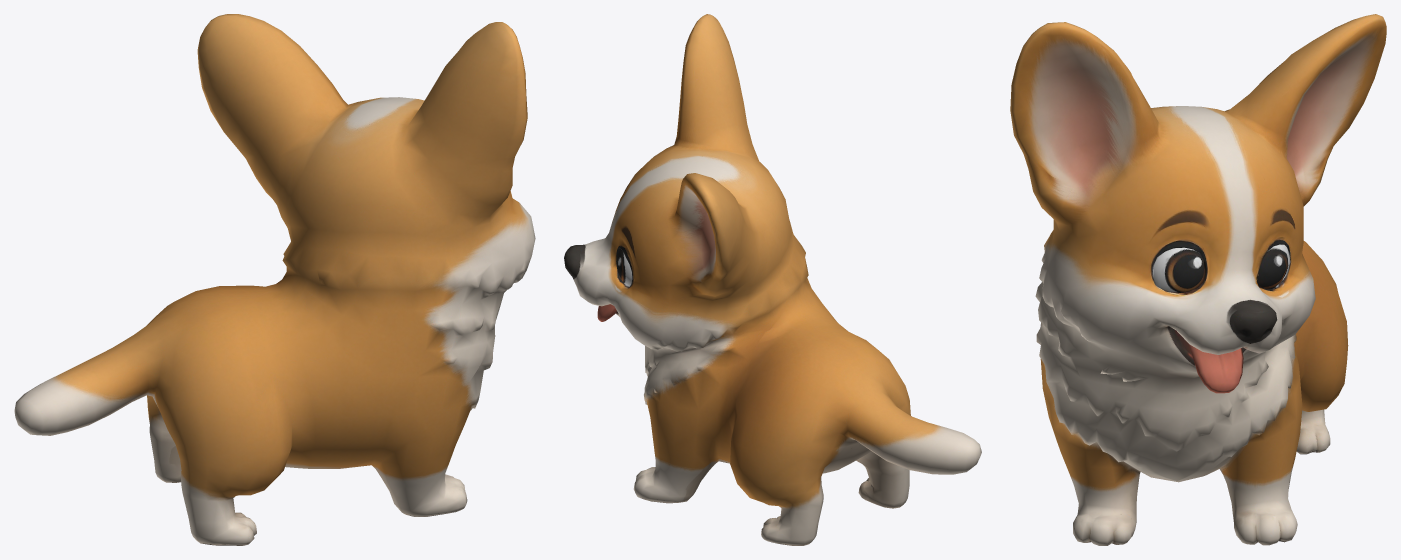
The model's file is corgi-assistant.glb.
The picture shows the model from 3 angles, left to right: view 1: azimuth 30°, elevation 25°; view 2: azimuth 150°, elevation 25°; view 3: azimuth 270°, elevation 25°; orthographic projection. The views are drawn at different scales.
Visible parts, largest first — view 1: tripo_node_14caba38-251c-499d-afae-c8eccf622c65; view 2: tripo_node_14caba38-251c-499d-afae-c8eccf622c65; view 3: tripo_node_14caba38-251c-499d-afae-c8eccf622c65.
Boxes of the visible parts, x1,y1,x2,y2 form: tripo_node_14caba38-251c-499d-afae-c8eccf622c65: (14, 14, 535, 545); tripo_node_14caba38-251c-499d-afae-c8eccf622c65: (564, 14, 981, 545); tripo_node_14caba38-251c-499d-afae-c8eccf622c65: (1010, 14, 1386, 545).
Size of the model in its own units: 0.998 by 0.9668 by 0.6113.
Materials: 1 (1 with a texture image).
